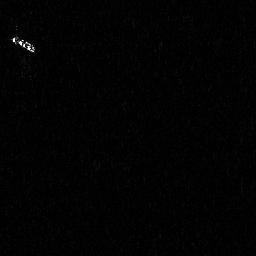ship: (11, 34, 37, 54)
